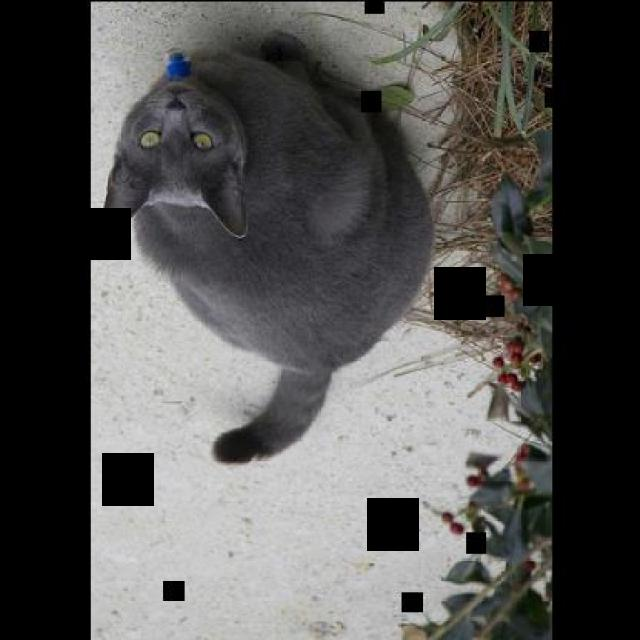unauthorized: (102, 29, 436, 465)
